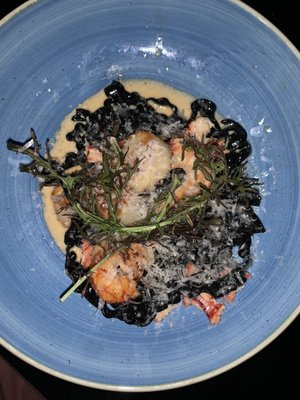sushi: (1, 0, 299, 344)
